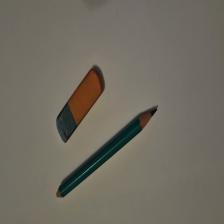eraser: (57, 69, 105, 145)
pencil: (58, 110, 159, 200)
